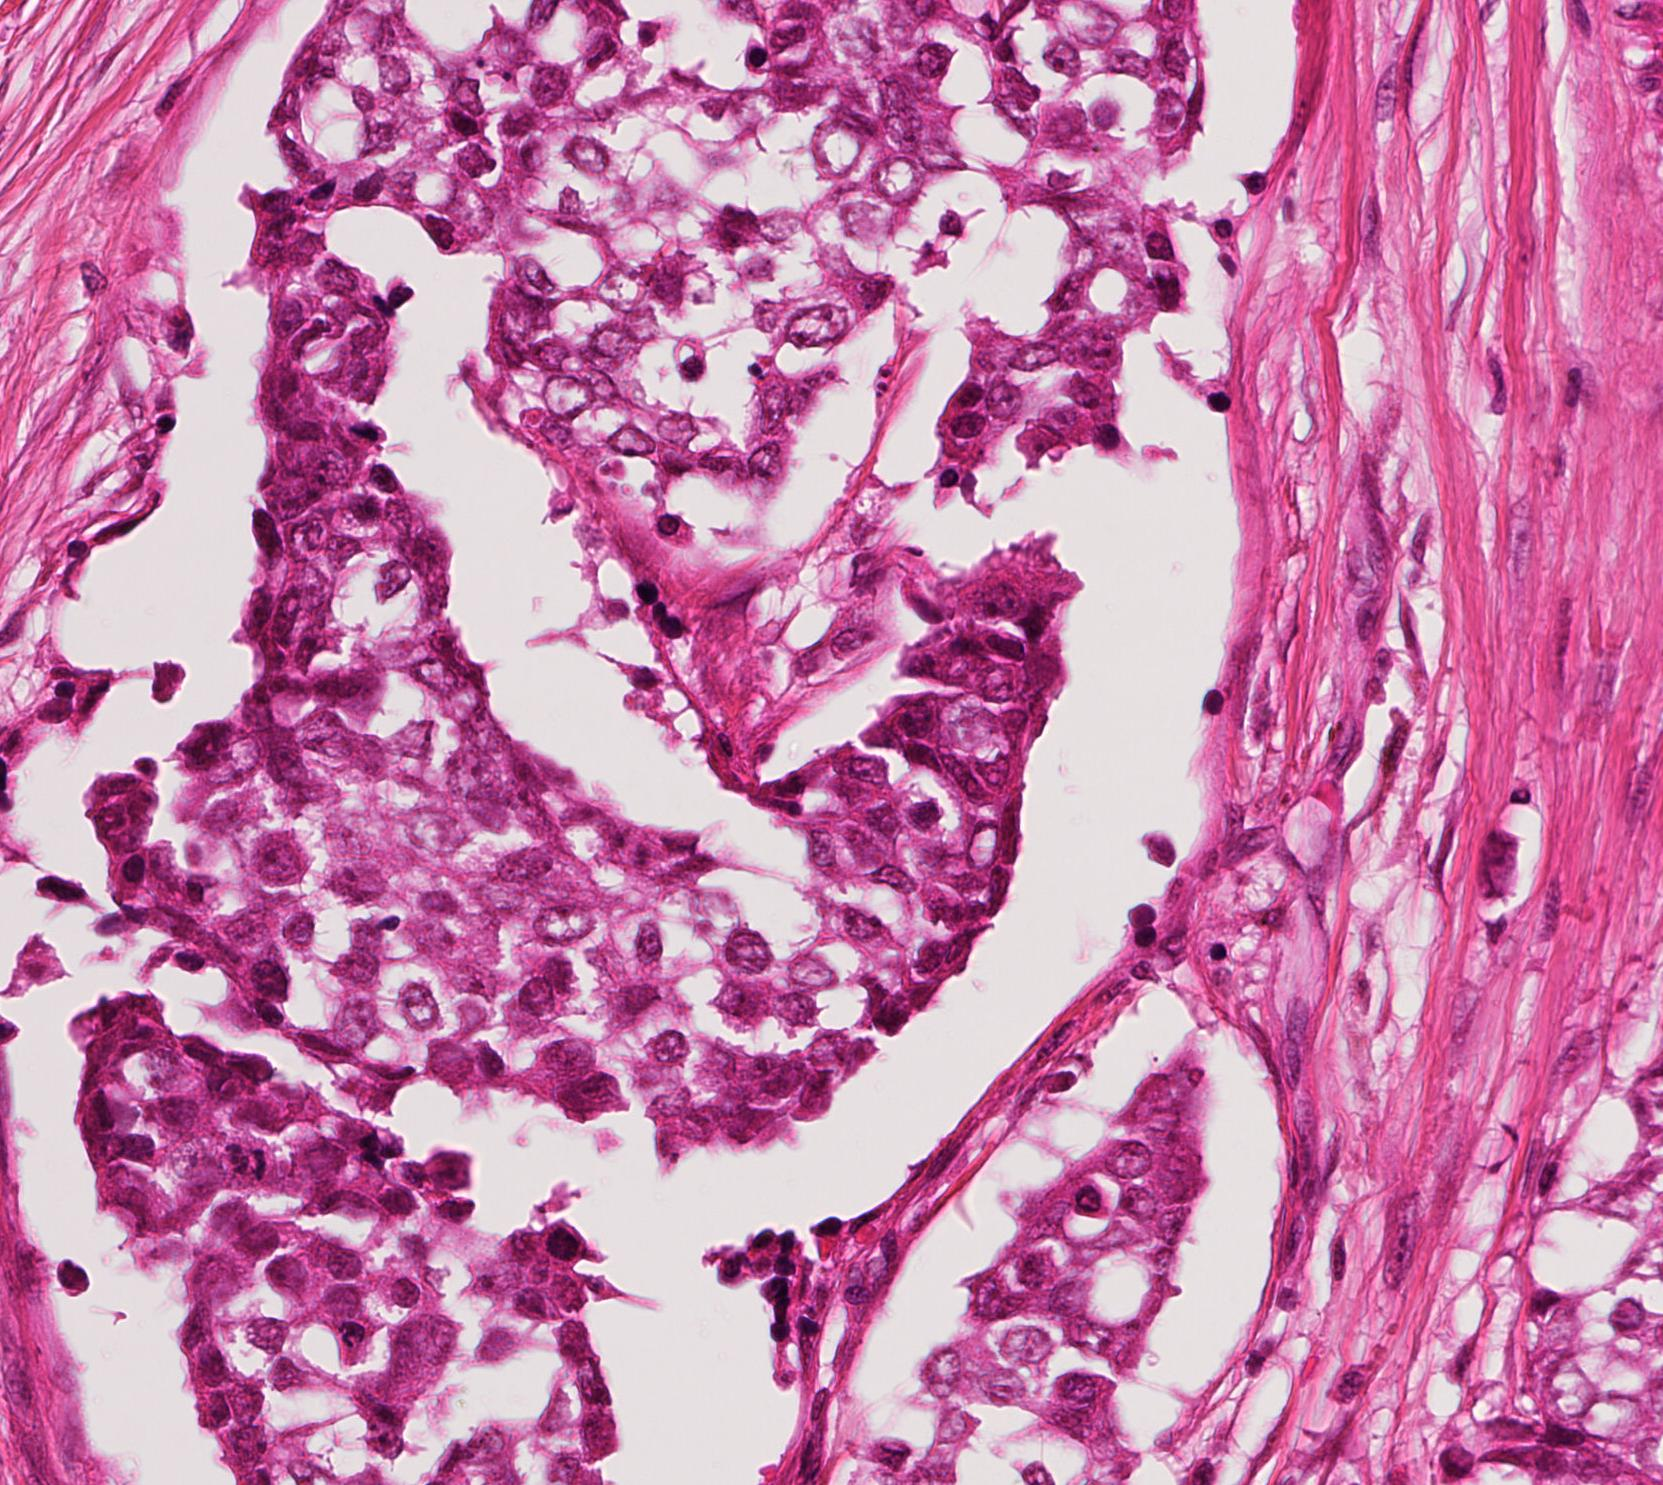mitosis: (526, 1214, 586, 1274), (218, 1130, 278, 1190)
